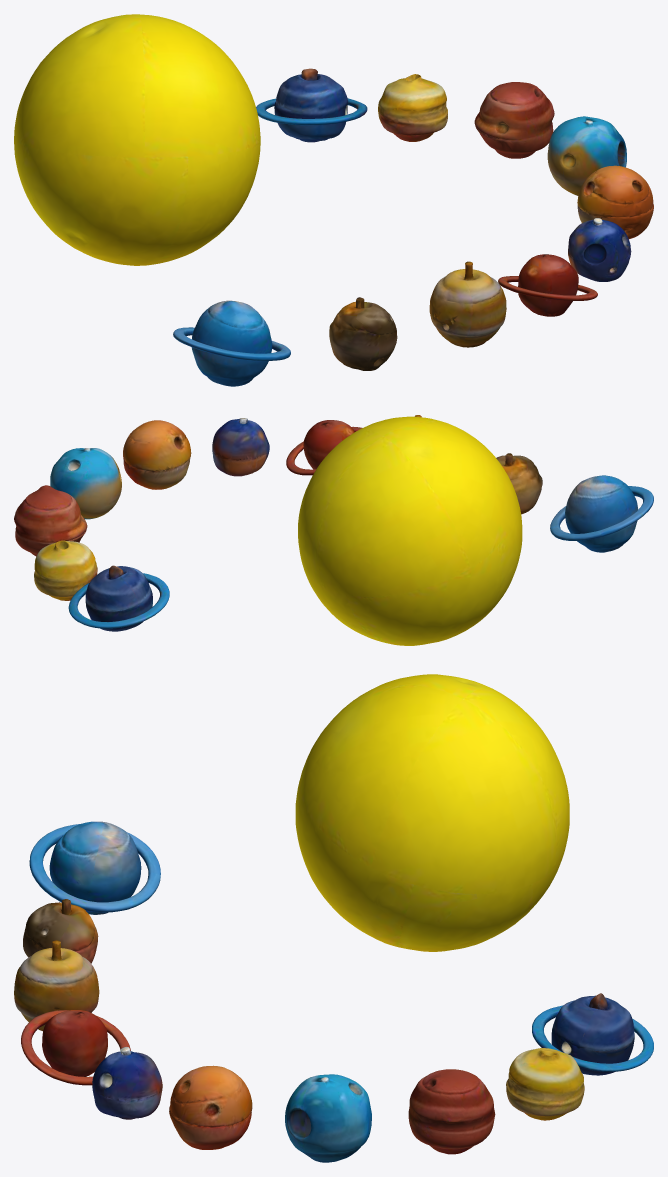
Rendered from planets.glb.
The picture shows the model from 3 angles, top to bottom: view 1: azimuth 30°, elevation 25°; view 2: azimuth 150°, elevation 25°; view 3: azimuth 270°, elevation 25°; orthographic projection. The views are drawn at different scales.
Visible parts, largest first — view 1: tripo_node_13d0f779-a9ee-43d4-b715-4d7ec226905a; view 2: tripo_node_13d0f779-a9ee-43d4-b715-4d7ec226905a; view 3: tripo_node_13d0f779-a9ee-43d4-b715-4d7ec226905a.
Part boxes in pixels (x1,y1,x2,y2): tripo_node_13d0f779-a9ee-43d4-b715-4d7ec226905a: [14, 14, 653, 386]; tripo_node_13d0f779-a9ee-43d4-b715-4d7ec226905a: [14, 415, 653, 645]; tripo_node_13d0f779-a9ee-43d4-b715-4d7ec226905a: [14, 674, 653, 1162].
Size of the model in its own units: 0.9805 by 0.3985 by 0.901.
1 material, 1 textured.
